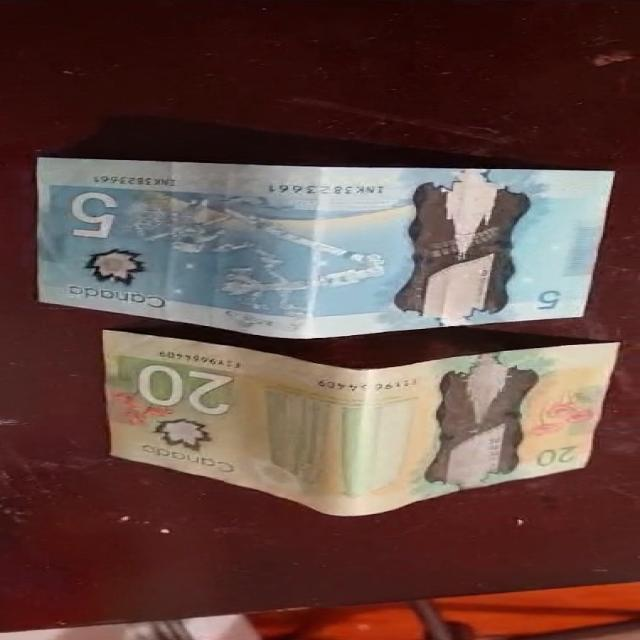20 cad: (99, 330, 612, 513)
5 cad: (37, 160, 611, 333)
